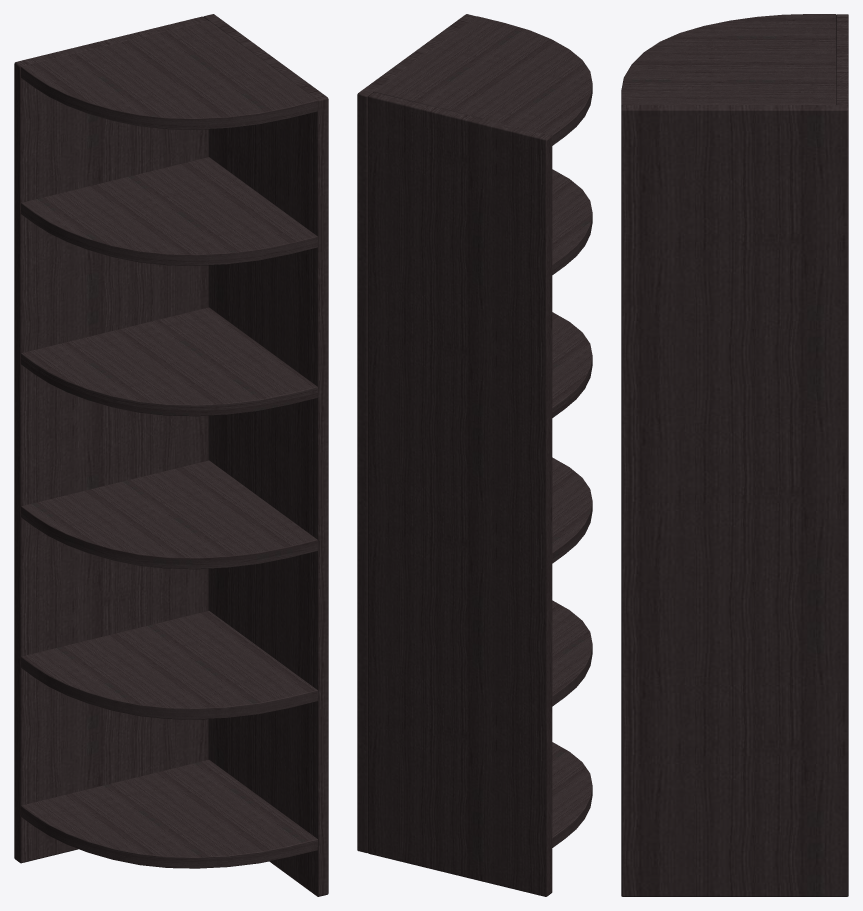
The picture shows the model from 3 angles, left to right: view 1: azimuth 30°, elevation 25°; view 2: azimuth 150°, elevation 25°; view 3: azimuth 270°, elevation 25°; orthographic projection. The views are drawn at different scales.
Visible parts, largest first — view 1: Node; view 2: Node; view 3: Node.
Part boxes in pixels (<box>): Node: <box>14,14,328,896</box>; Node: <box>357,14,592,896</box>; Node: <box>621,14,848,896</box>.
Size of the model in its own units: 0.55 by 2.1 by 0.55.
1 material, 1 textured.
